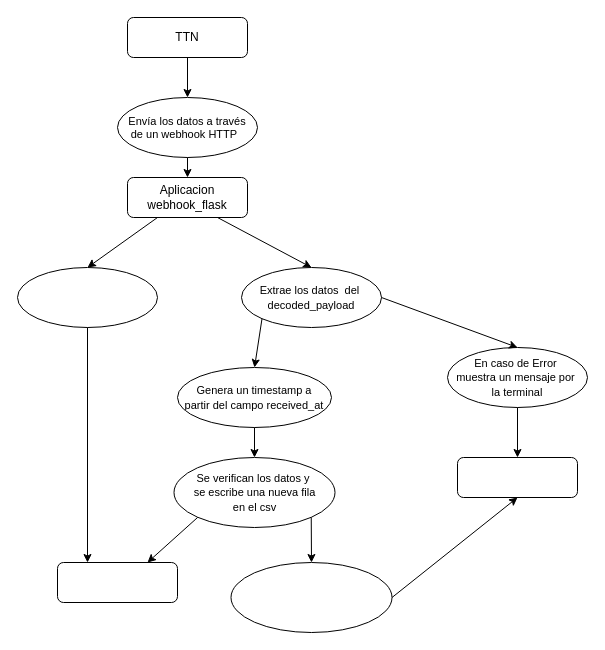
The diagram is 605 pixels wide and 650 high, and some of its shapes have lost their labels. Here are the shapes that lost their labels. From the top down, the centre of each, then its label:
At (x=87, y=297): "Genera un fichero csv si no existia uno antes".
At (x=517, y=477): "Terminal".
At (x=117, y=582): "Fichero webhook_dataset".
At (x=311, y=597): "Se muestra por la terminal que el paquete ha sido recibido correctamente".
